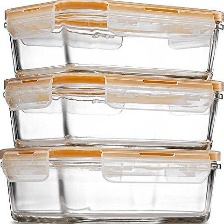plastic_box: (0, 67, 224, 156), (0, 0, 224, 85), (0, 141, 224, 224)
